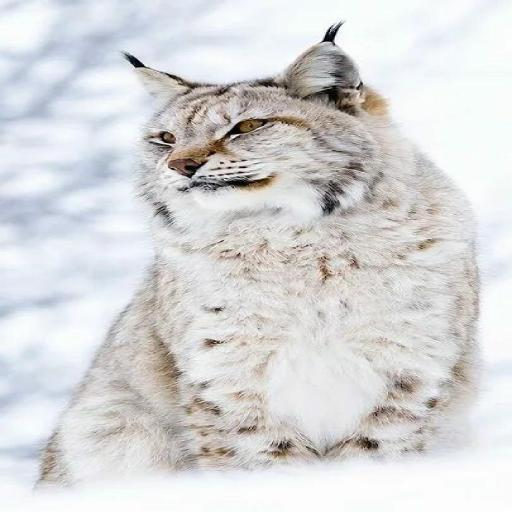lynx: (39, 23, 478, 485)
